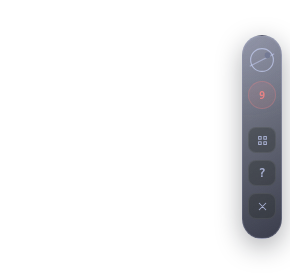
Scenario: summoned hud › acknowledges a completed conversation locally after opening it
Click the button named "Runtime demo; toggle focus drawer" at (262, 60), box [248, 46, 276, 74]
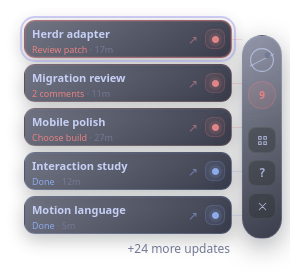
Click the button with aria-label "Interaction study · Done" at (128, 171), box [24, 152, 232, 190]
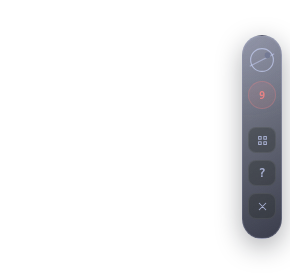
Press Escape
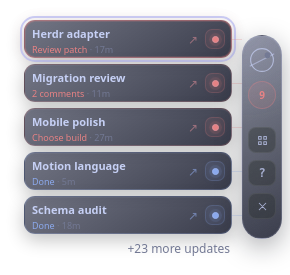
Expected: the element named "Conversation updates" is shown
